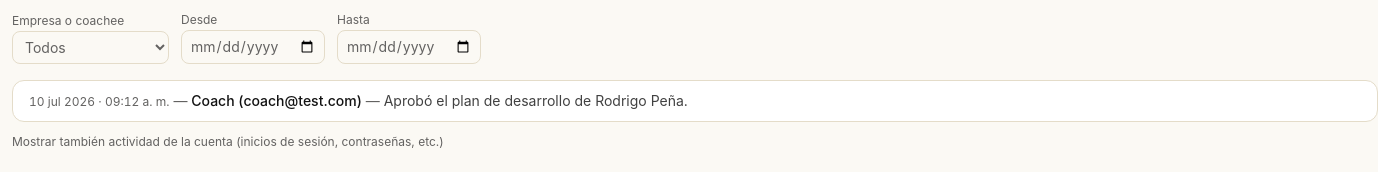
Test: AuditoriaTab › reveals account activity (logins, etc.) only after clicking the toggle
The image size is (1378, 172).
expect the text "Inició sesión" is not shown: met
Step 1. Click the button → (228, 142), box [12,134,444,150]
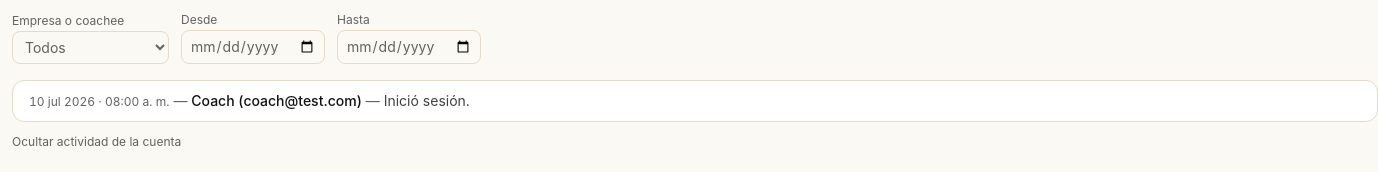
expect the text "Inició sesión" is shown: met, box [384,92,470,109]
expect the text "Ocultar actividad de la cuenta" is shown: met, box [12,134,181,150]
